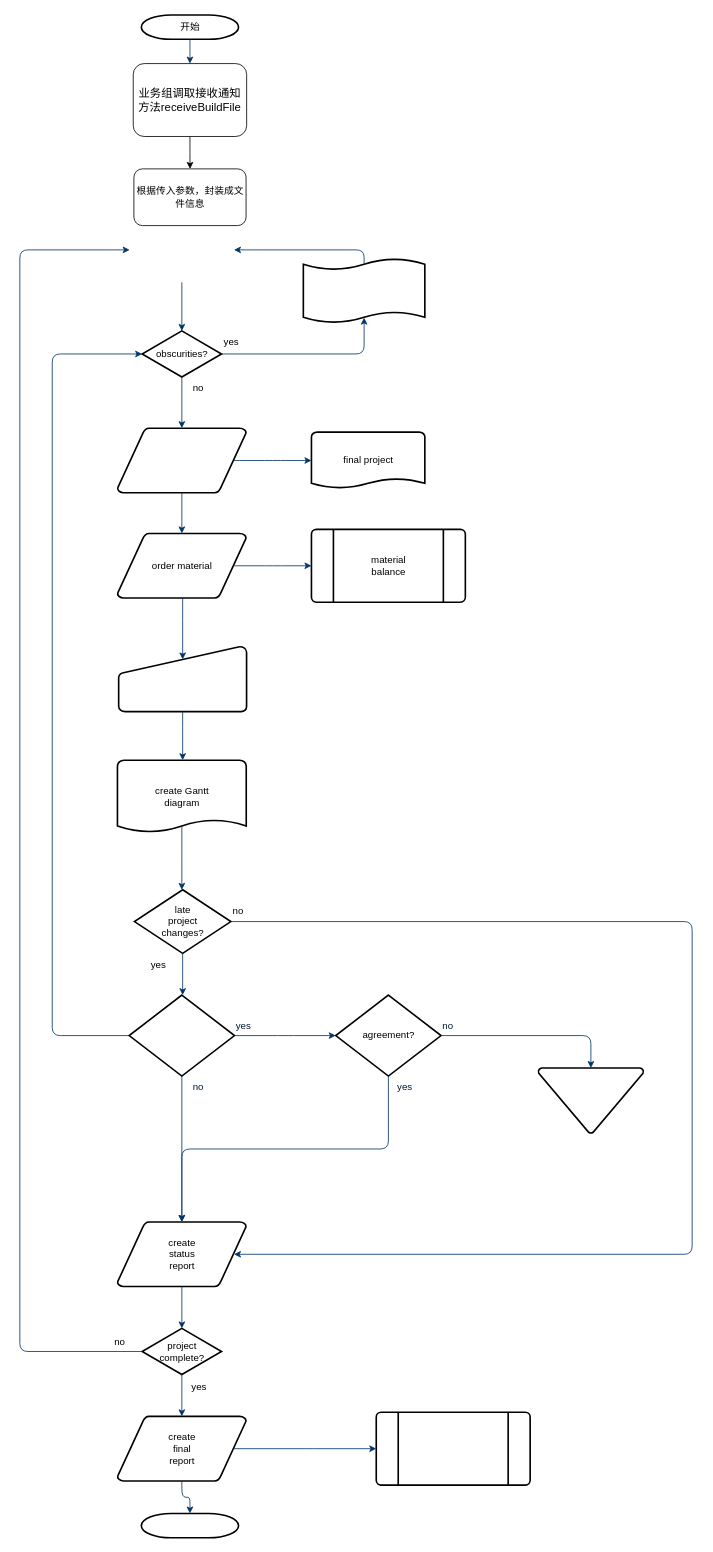
Some shapes in this 713 by 1552 pixel diagram are drawn without their labels. The shapes that lost their labels are listed below. From the top down, each one's box as (x1, y1, x2, y2) in pixels, then its label:
(302, 257, 425, 324): iron out obscurities with investor
(116, 427, 247, 493): create material specification
(117, 646, 247, 712): organize workforce
(128, 994, 235, 1076): investor disapproves investment?
(537, 1067, 644, 1134): terminate contract
(375, 1411, 531, 1486): issue bill of works
(140, 1512, 239, 1538): end
